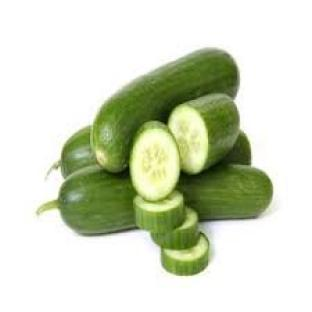Cucumber: (92, 49, 238, 171), (39, 167, 135, 234), (168, 95, 239, 174), (131, 121, 180, 201), (48, 127, 97, 177), (134, 190, 185, 232), (161, 233, 209, 275), (152, 207, 199, 249), (221, 131, 252, 165)
